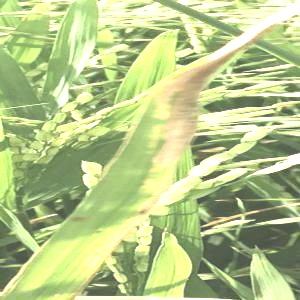Leaf_Blast: (110, 72, 197, 187)
